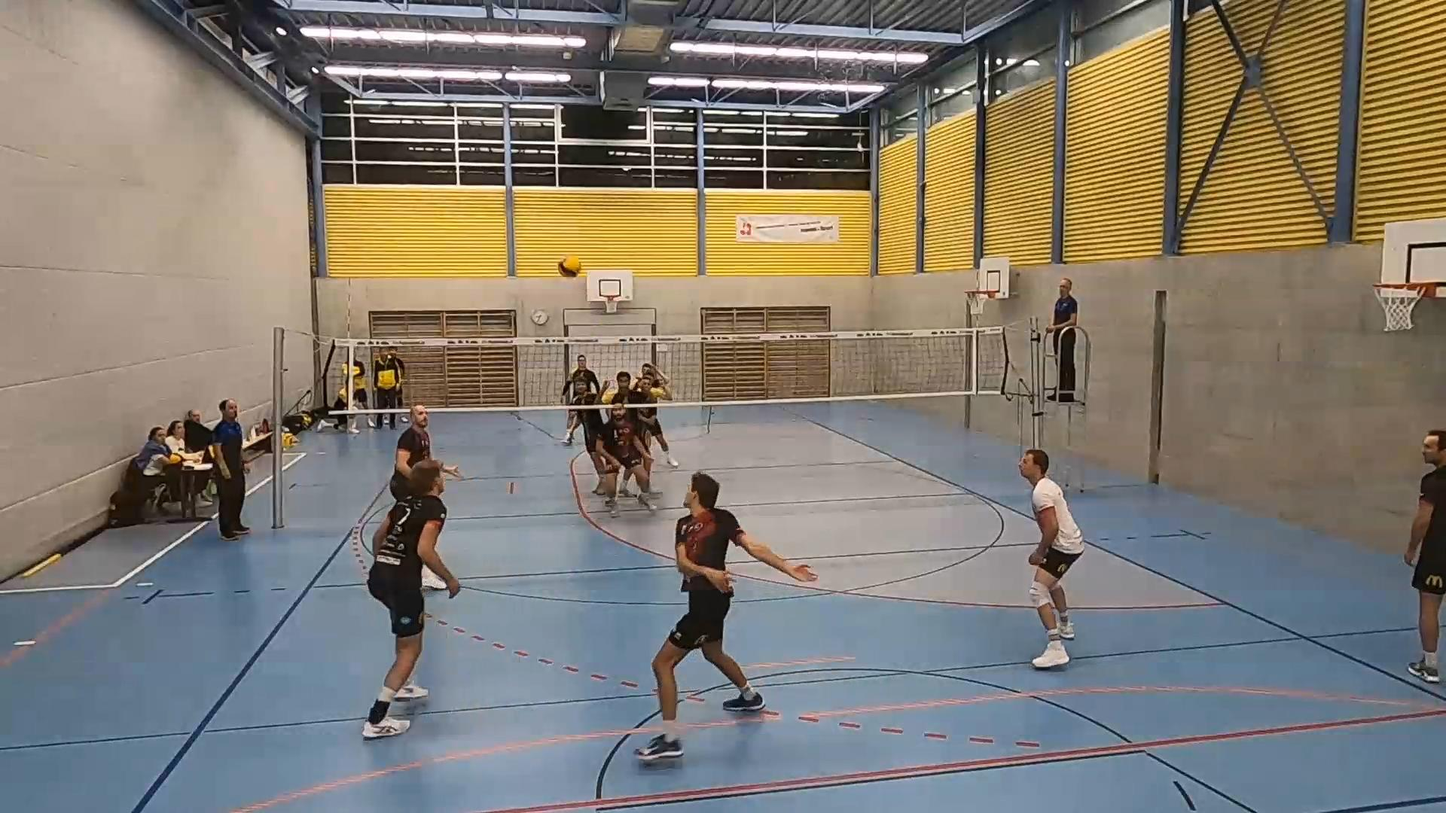Player: (363, 460, 459, 738), (1018, 449, 1084, 668), (1405, 430, 1445, 683), (599, 402, 654, 516), (389, 404, 431, 501), (624, 373, 660, 485), (577, 408, 611, 495), (641, 407, 679, 467), (562, 355, 600, 403), (599, 370, 632, 404)
Receive: (633, 467, 822, 767)
ball: (558, 256, 585, 277)
